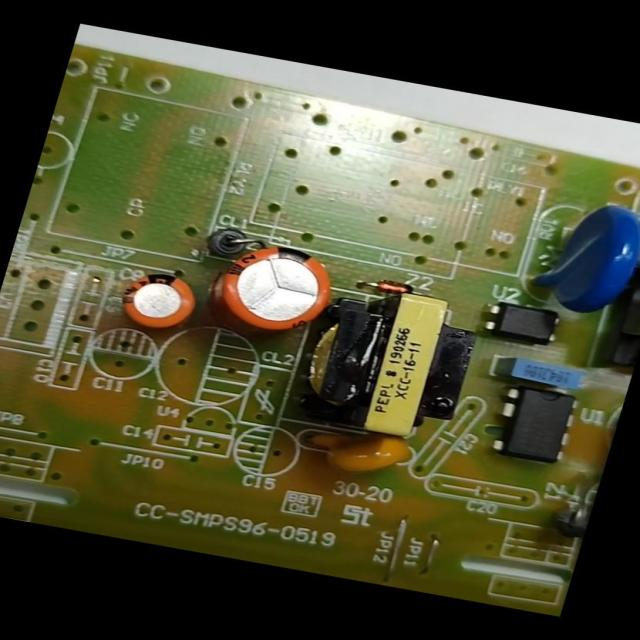Cap1: (199, 233, 349, 341)
Cap2: (109, 265, 203, 336)
MOSFET: (480, 380, 589, 470)
Mov: (518, 191, 639, 319)
Transformer: (287, 276, 493, 448), (593, 273, 639, 372)
